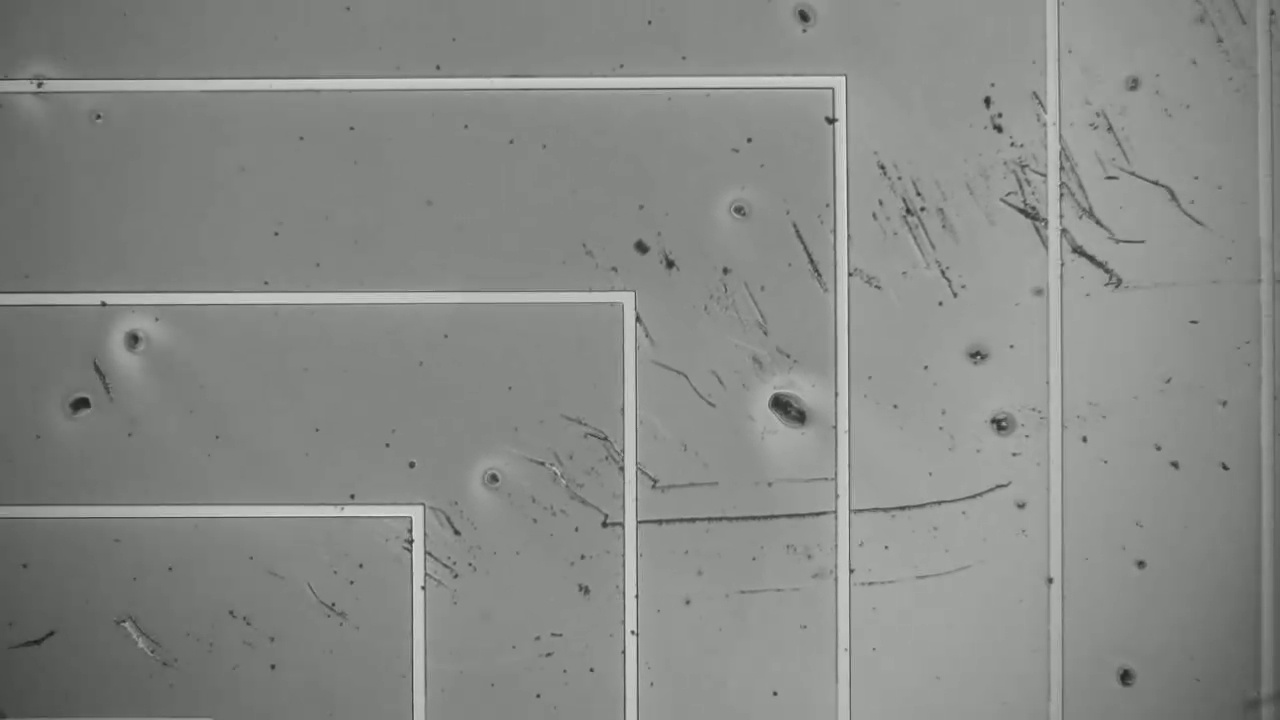scratch: (603, 496, 1029, 541)
stains_enbedded: (878, 156, 957, 290), (1118, 151, 1199, 224), (868, 557, 970, 611), (779, 201, 822, 288), (650, 353, 714, 408), (738, 277, 772, 340), (658, 473, 715, 502), (26, 71, 50, 101)
